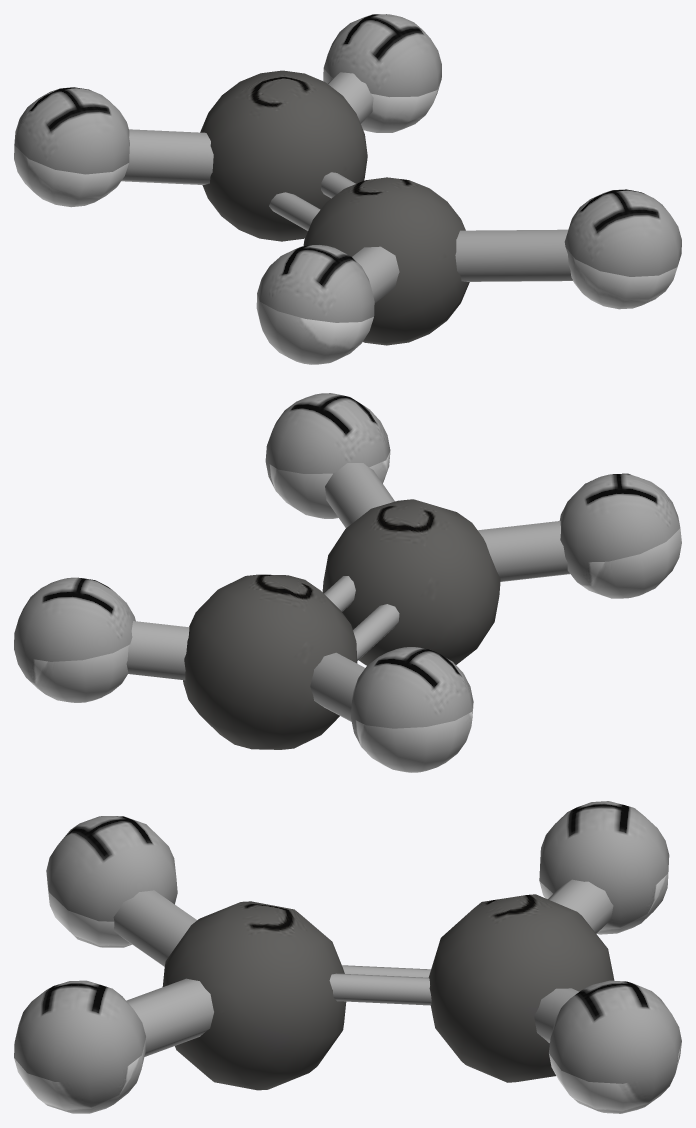
File: Ethene.fbx
3 views of the same model, one above another, from view 1: azimuth 30°, elevation 25°; view 2: azimuth 150°, elevation 25°; view 3: azimuth 270°, elevation 25° (orthographic). The views are drawn at different scales.
Parts seen in each view (by area): view 1: pSphere202, pSphere201, pSphere205, pSphere204, pSphere199, pSphere203, pCylinder8, pCylinder7, pCylinder9, pCylinder6, pCylinder4, pCylinder5; view 2: pSphere202, pSphere201, pSphere204, pSphere205, pSphere203, pSphere199, pCylinder9, pCylinder6, pCylinder8, pCylinder7, pCylinder4, pCylinder5; view 3: pSphere201, pSphere202, pSphere199, pSphere203, pSphere205, pSphere204, pCylinder8, pCylinder9, pCylinder5, pCylinder7, pCylinder6, pCylinder4.
Part boxes in pixels (x1=…): pSphere202: x1=200, y1=70, x2=367, y2=241; pSphere201: x1=303, y1=177, x2=469, y2=345; pSphere205: x1=256, y1=245, x2=374, y2=364; pSphere204: x1=14, y1=87, x2=129, y2=207; pSphere199: x1=564, y1=189, x2=681, y2=309; pSphere203: x1=323, y1=14, x2=441, y2=132; pCylinder8: x1=455, y1=229, x2=572, y2=281; pCylinder7: x1=121, y1=129, x2=213, y2=184; pCylinder9: x1=352, y1=246, x2=399, y2=303; pCylinder6: x1=328, y1=72, x2=373, y2=123; pCylinder4: x1=269, y1=192, x2=320, y2=230; pCylinder5: x1=321, y1=172, x2=355, y2=198; pSphere202: x1=183, y1=574, x2=357, y2=749; pSphere201: x1=322, y1=499, x2=500, y2=665; pSphere204: x1=351, y1=647, x2=473, y2=772; pSphere205: x1=559, y1=473, x2=681, y2=598; pSphere203: x1=14, y1=577, x2=135, y2=702; pSphere199: x1=265, y1=393, x2=390, y2=518; pCylinder9: x1=478, y1=521, x2=569, y2=581; pCylinder6: x1=126, y1=621, x2=189, y2=680; pCylinder8: x1=325, y1=463, x2=394, y2=527; pCylinder7: x1=310, y1=652, x2=364, y2=721; pCylinder4: x1=353, y1=604, x2=399, y2=660; pCylinder5: x1=324, y1=576, x2=355, y2=611; pSphere201: x1=162, y1=901, x2=346, y2=1090; pSphere202: x1=428, y1=894, x2=614, y2=1082; pSphere199: x1=14, y1=980, x2=146, y2=1113; pSphere203: x1=549, y1=980, x2=681, y2=1113; pSphere205: x1=46, y1=816, x2=177, y2=947; pSphere204: x1=539, y1=801, x2=669, y2=934; pCylinder8: x1=126, y1=978, x2=213, y2=1056; pCylinder9: x1=113, y1=890, x2=196, y2=966; pCylinder5: x1=329, y1=973, x2=431, y2=1005; pCylinder7: x1=548, y1=879, x2=613, y2=933; pCylinder6: x1=534, y1=988, x2=579, y2=1043; pCylinder4: x1=342, y1=965, x2=430, y2=977.
Bounding box in the file's own units: 0.2591 × 0.0992 × 0.3222.
2 materials, 1 textured.
